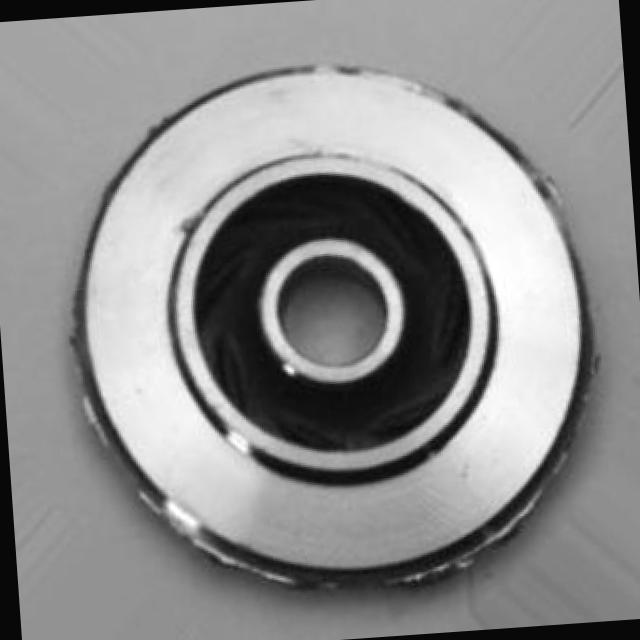Defect: (416, 544, 494, 594)
